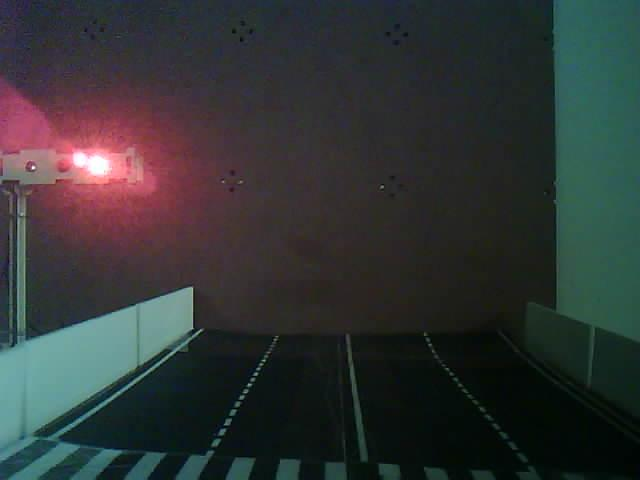crosswalk: (1, 416, 589, 480)
red: (0, 131, 161, 347)
